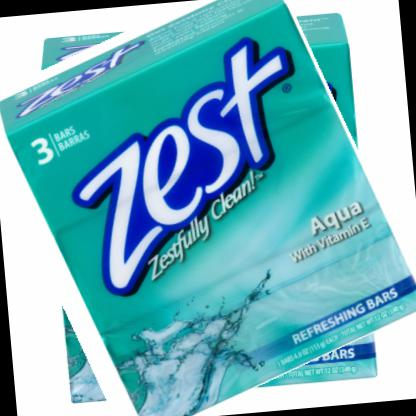soap: (0, 0, 412, 415)
